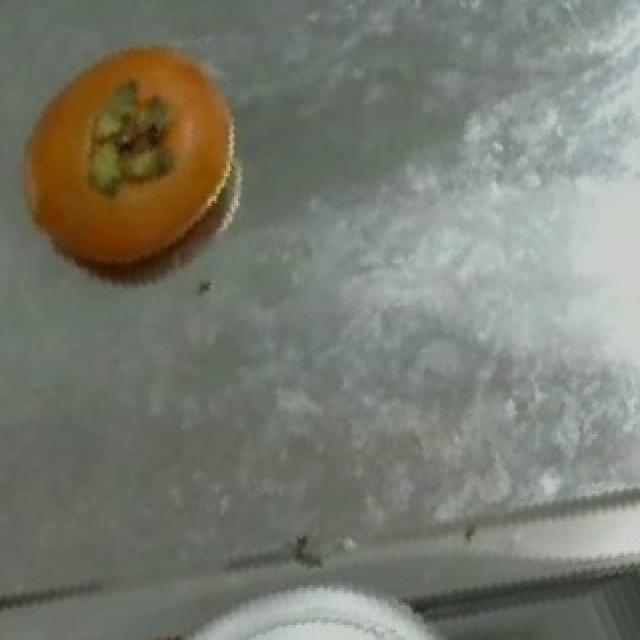Fruit: (2, 42, 268, 290)
